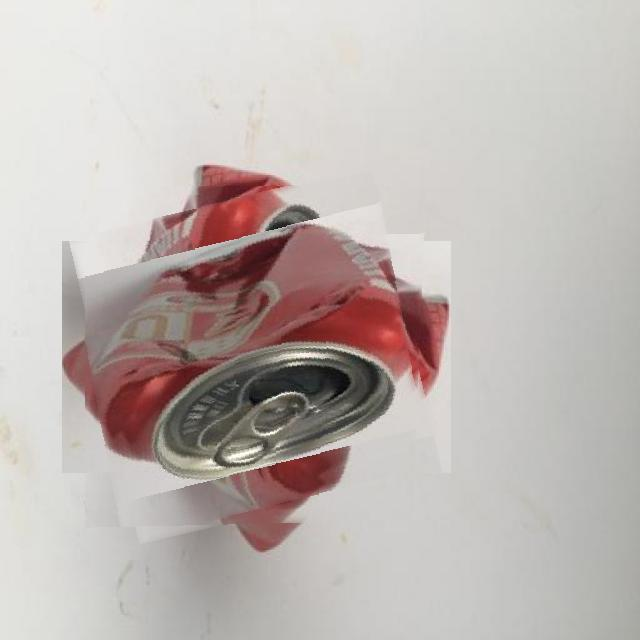recyclable: (85, 186, 427, 528)
